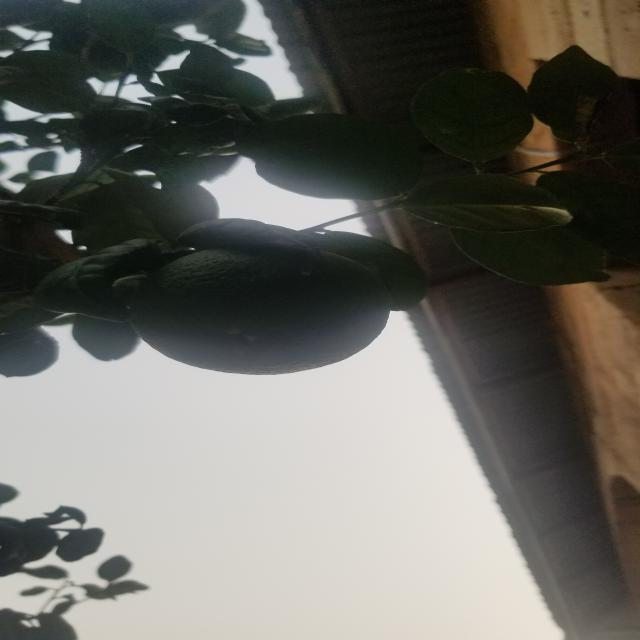Unripe: (130, 229, 412, 395)
